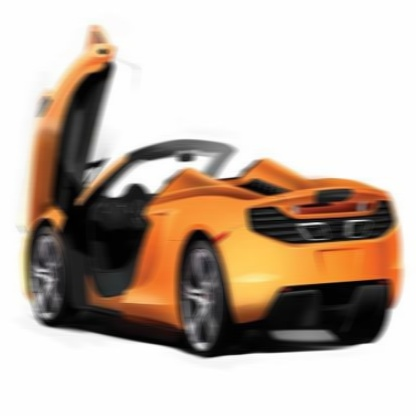Vehicle: (19, 25, 403, 360)
